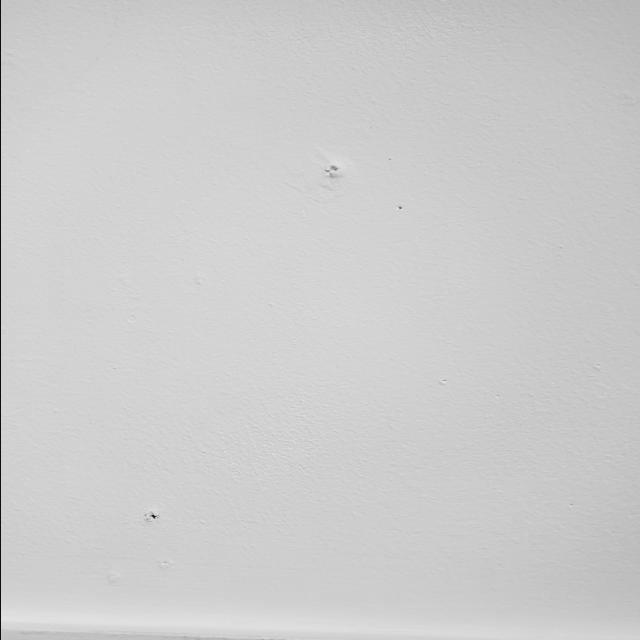pin holes: (315, 148, 350, 195), (139, 506, 183, 540), (390, 200, 409, 225)
